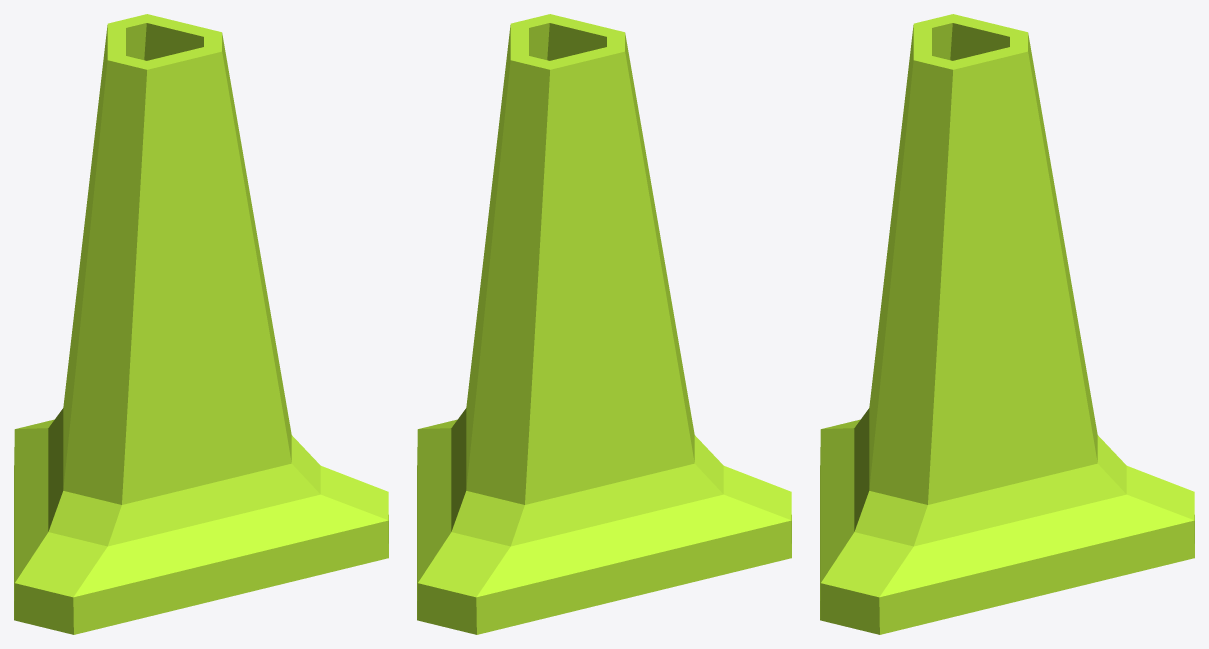
The model's file is warningsing001.fbx.
The picture shows the model from 3 angles, left to right: view 1: azimuth 30°, elevation 25°; view 2: azimuth 150°, elevation 25°; view 3: azimuth 270°, elevation 25°; orthographic projection.
Parts seen in each view (by area): view 1: warning_sign_001; view 2: warning_sign_001; view 3: warning_sign_001.
Boxes of the visible parts, x1,y1,x2,y2 form: warning_sign_001: (14, 14, 388, 634); warning_sign_001: (417, 14, 791, 634); warning_sign_001: (820, 14, 1194, 634).
Bounding box in the file's own units: 93.5 × 120 × 80.97.
